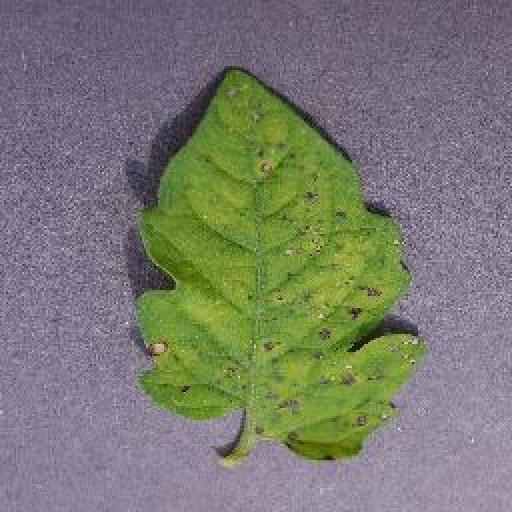Septoria: (137, 65, 420, 459)
